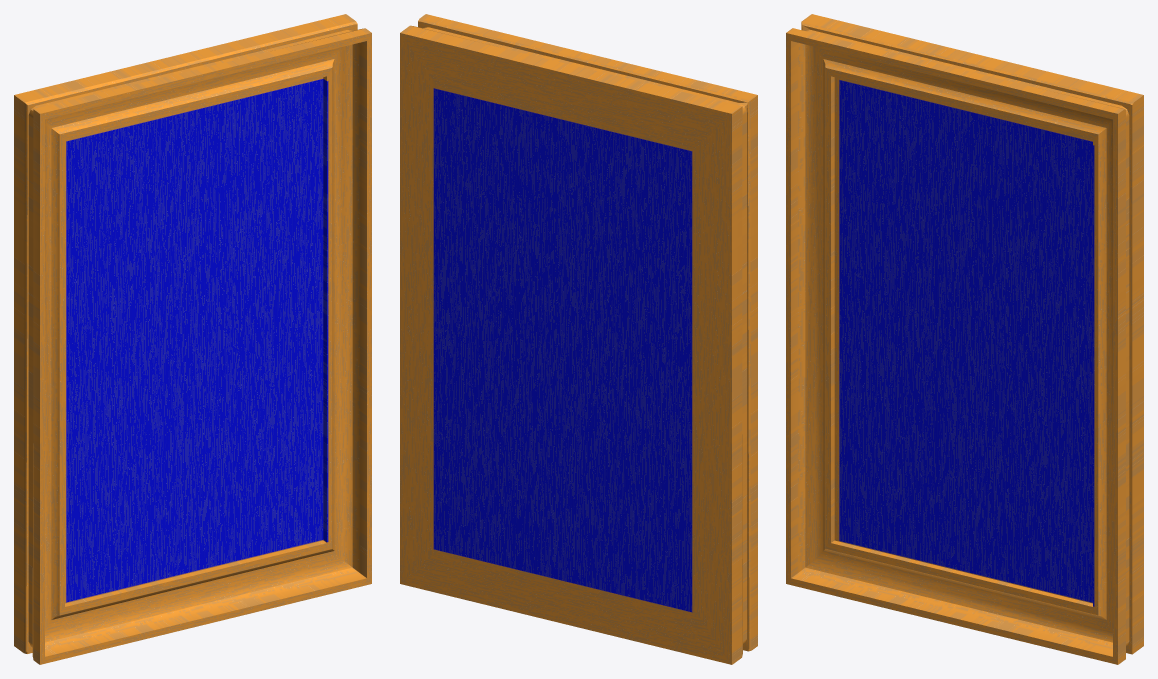
Rendered from frame.fbx.
The picture shows the model from 3 angles, left to right: view 1: azimuth 30°, elevation 25°; view 2: azimuth 150°, elevation 25°; view 3: azimuth 330°, elevation 25°; orthographic projection.
Visible parts, largest first — view 1: polySurface2; view 2: polySurface2; view 3: polySurface2.
Part boxes in pixels (<box>): polySurface2: <box>14,14,371,664</box>; polySurface2: <box>400,14,757,664</box>; polySurface2: <box>786,14,1143,664</box>.
Bounding box in the file's own units: 3.27 × 5.19 × 0.4414.
